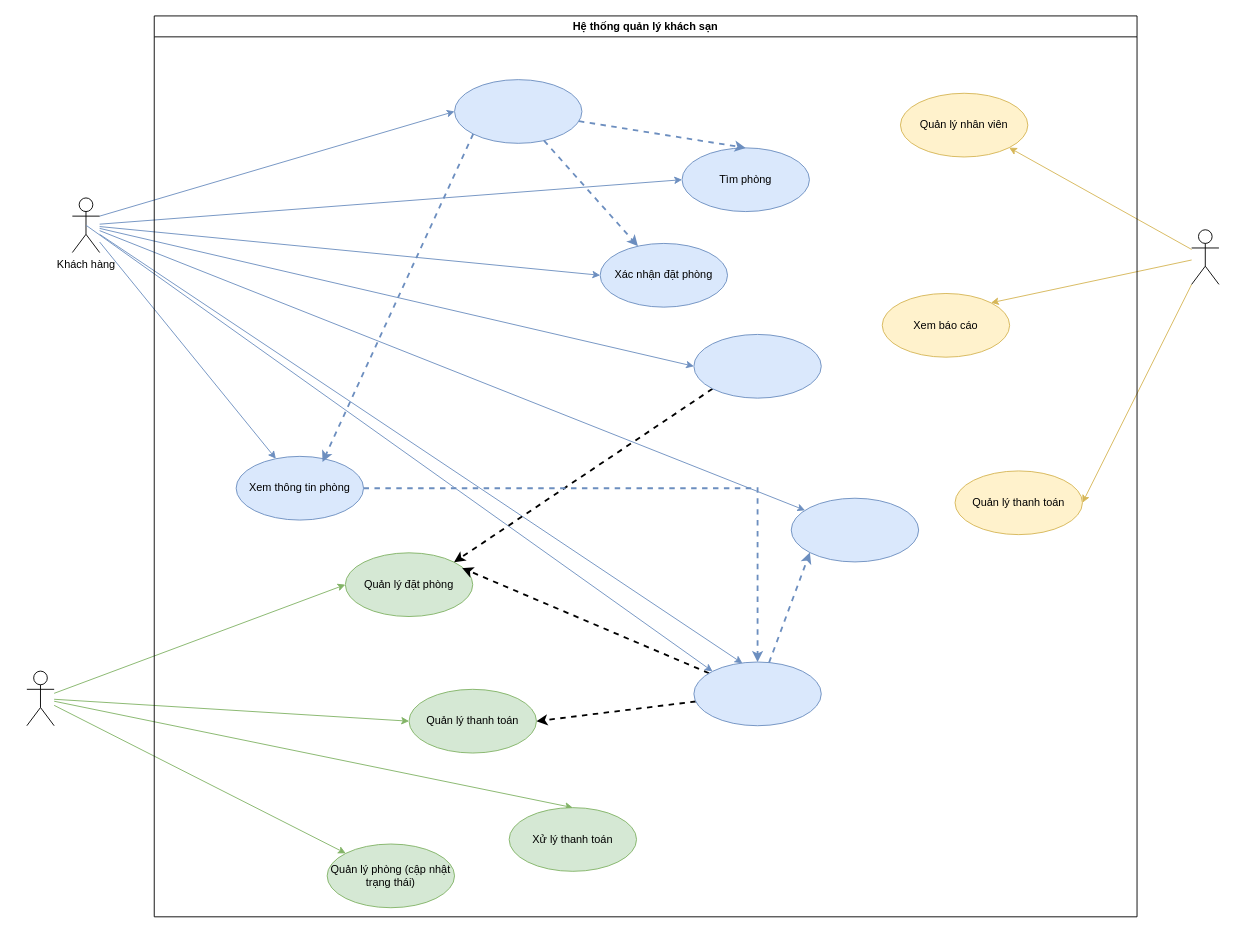
Some shapes in this 1239 by 933 pixel diagram are drawn without their labels. The shapes that lost their labels are listed below. From the top down, each one's centre as x and y in pixels, then its label:
the point at 518,111: Đặt phòng
the point at 1205,256: Quản lý
the point at 757,366: Hủy đặt phòng
the point at 854,529: Chọn phương thúc thanh toán
the point at 40,698: Nhân viên
the point at 757,693: Thanh toán
